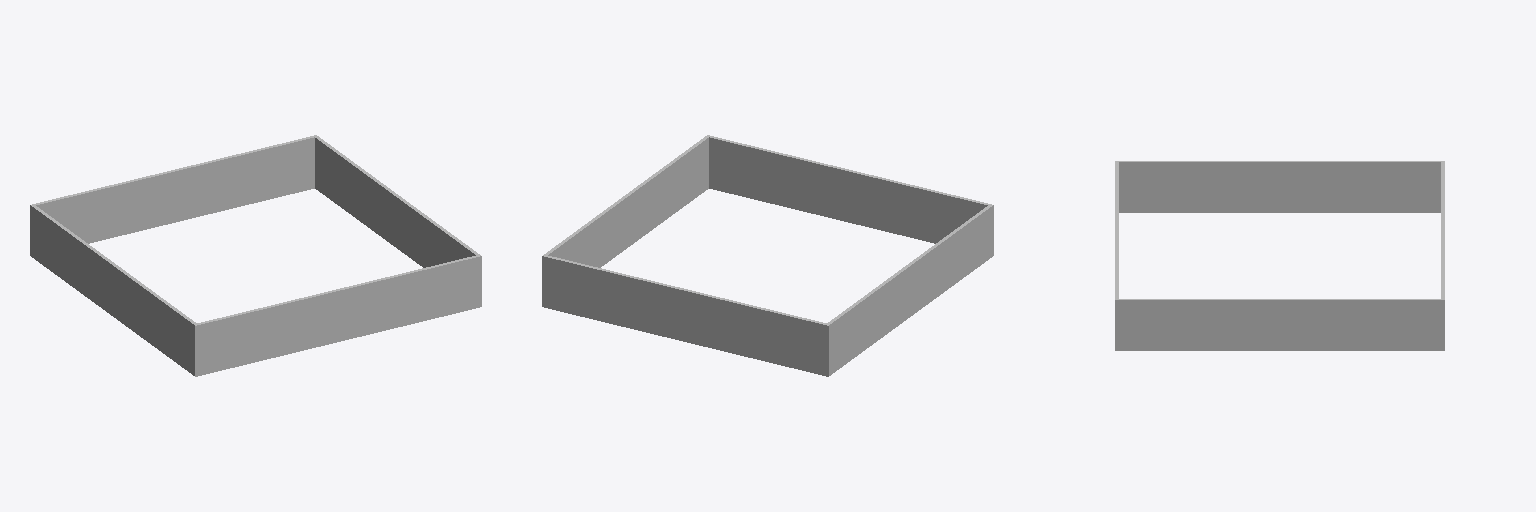
File: arena-walls.obj
3 renders of one model, left to right at view 1: azimuth 30°, elevation 25°; view 2: azimuth 150°, elevation 25°; view 3: azimuth 270°, elevation 25°, orthographic.
Parts seen in each view (by area): view 1: Cube; view 2: Cube; view 3: Cube.
Boxes of the visible parts, x1=… form: Cube: x1=30, y1=135, x2=481, y2=376; Cube: x1=542, y1=135, x2=993, y2=376; Cube: x1=1115, y1=161, x2=1444, y2=350.
Bounding box in the file's own units: 4.1 × 0.7 × 4.1.